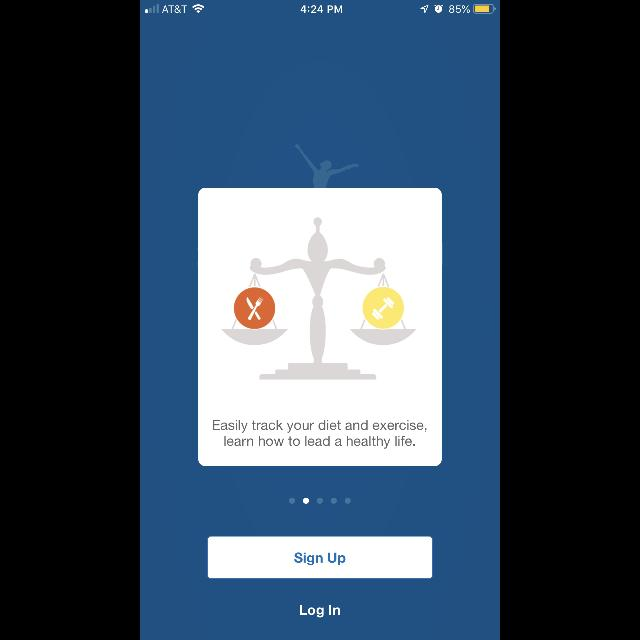image: (222, 218, 416, 380), (296, 144, 358, 188)
pageindicator: (289, 498, 351, 504)
text: (213, 419, 427, 448), (300, 604, 340, 618)
textbutton: (207, 535, 433, 579)
uppertaskbar: (140, 0, 500, 14)
